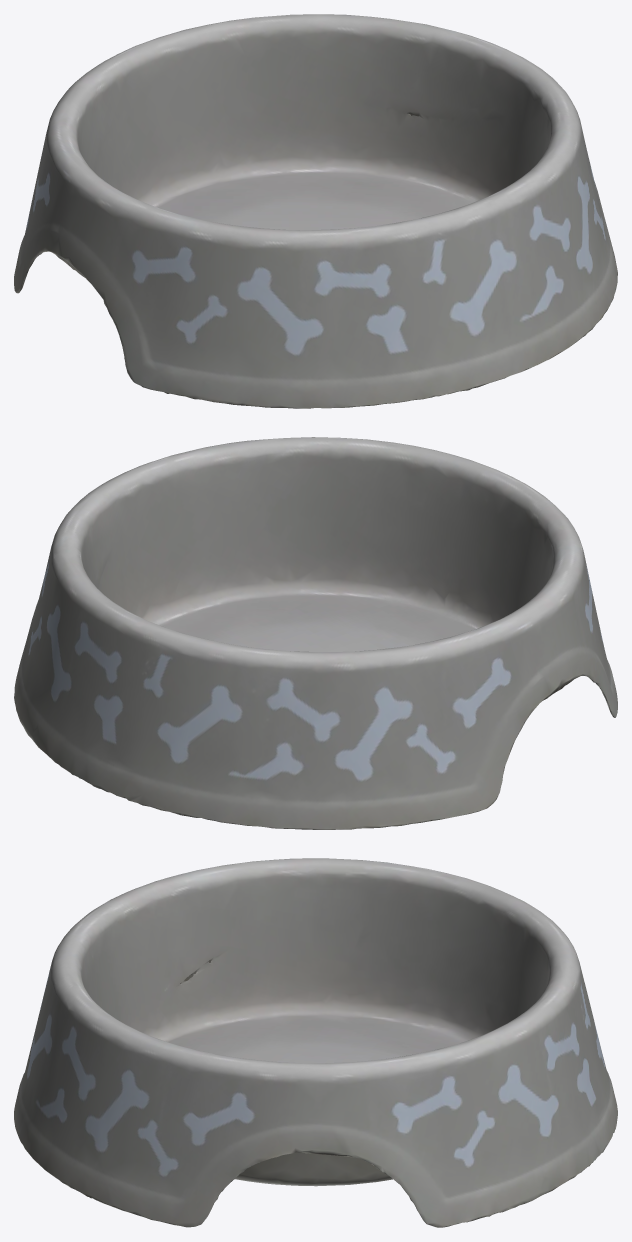
The model's file is Grreatv_Choice_Dog_Bowl_Gray_Bones_Plastic_20_fl_oz_total.glb.
The picture shows the model from 3 angles, top to bottom: view 1: azimuth 30°, elevation 25°; view 2: azimuth 150°, elevation 25°; view 3: azimuth 270°, elevation 25°; orthographic projection.
Visible parts, largest first — view 1: Grreatv_Choice_Dog_Bowl_Gray_Bones_Plastic_20_fl_oz_total; view 2: Grreatv_Choice_Dog_Bowl_Gray_Bones_Plastic_20_fl_oz_total; view 3: Grreatv_Choice_Dog_Bowl_Gray_Bones_Plastic_20_fl_oz_total.
Part boxes in pixels (x1,y1,x2,y2): Grreatv_Choice_Dog_Bowl_Gray_Bones_Plastic_20_fl_oz_total: (14, 14, 617, 408); Grreatv_Choice_Dog_Bowl_Gray_Bones_Plastic_20_fl_oz_total: (14, 437, 617, 829); Grreatv_Choice_Dog_Bowl_Gray_Bones_Plastic_20_fl_oz_total: (14, 858, 617, 1227).
Size of the model in its own units: 0.1708 by 0.0538 by 0.1835.
Materials: 1 (1 with a texture image).
